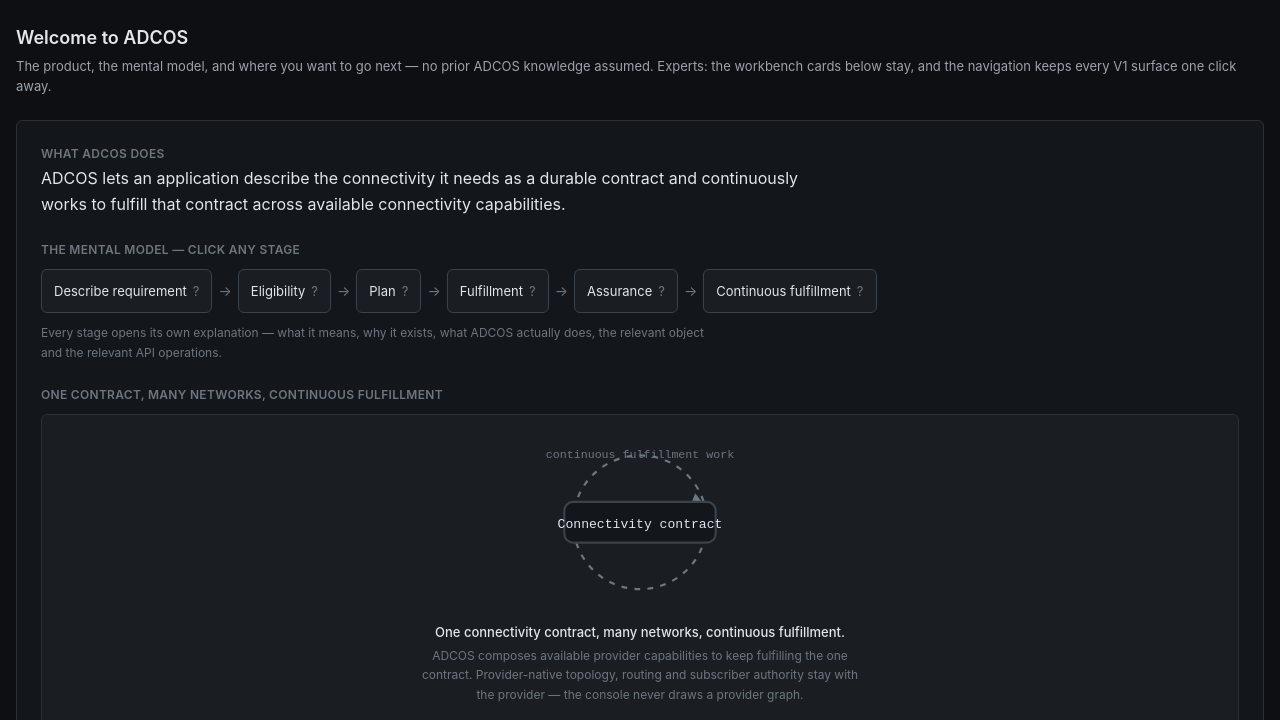
Test: First-run education — the fresh (disconnected) state › clicking a lifecycle stage opens its explanation carrying the REAL registry content
Click the button with test id "lifecycle-stage" at (284, 291), box [238, 269, 331, 313]
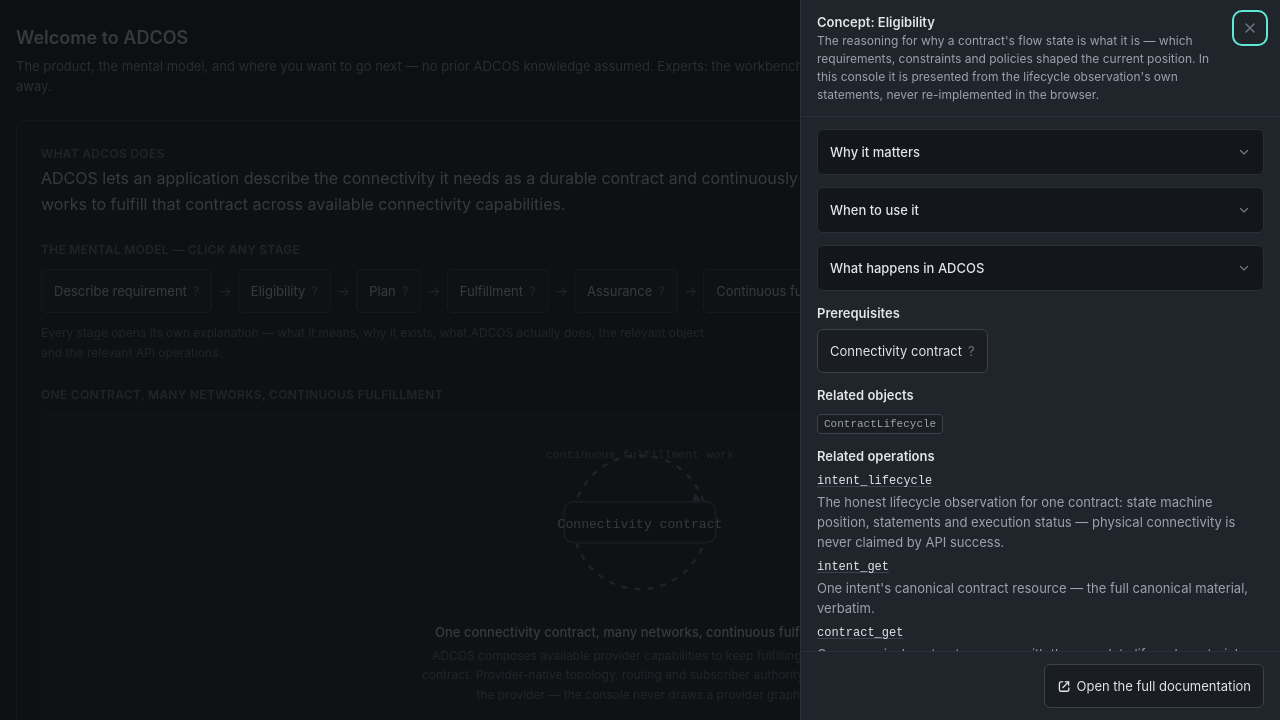
Now the text "The reasoning for why a contract's flow state is what it is" is shown, box [817, 33, 1209, 102]
Now the link "intent_lifecycle" is shown, box [817, 472, 932, 490]
Now the link "contract_get" is shown, box [817, 624, 903, 642]
